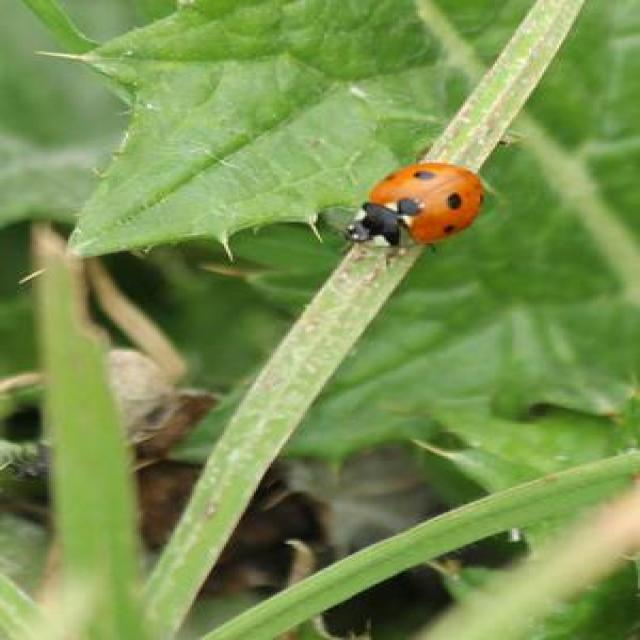body: (355, 163, 482, 247)
insect: (350, 161, 488, 253)
wings: (366, 162, 484, 245)
